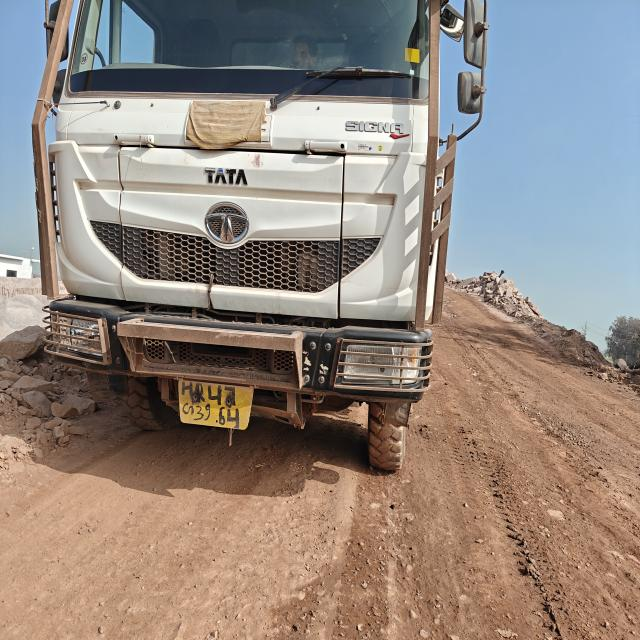license_plate: (179, 380, 253, 429)
